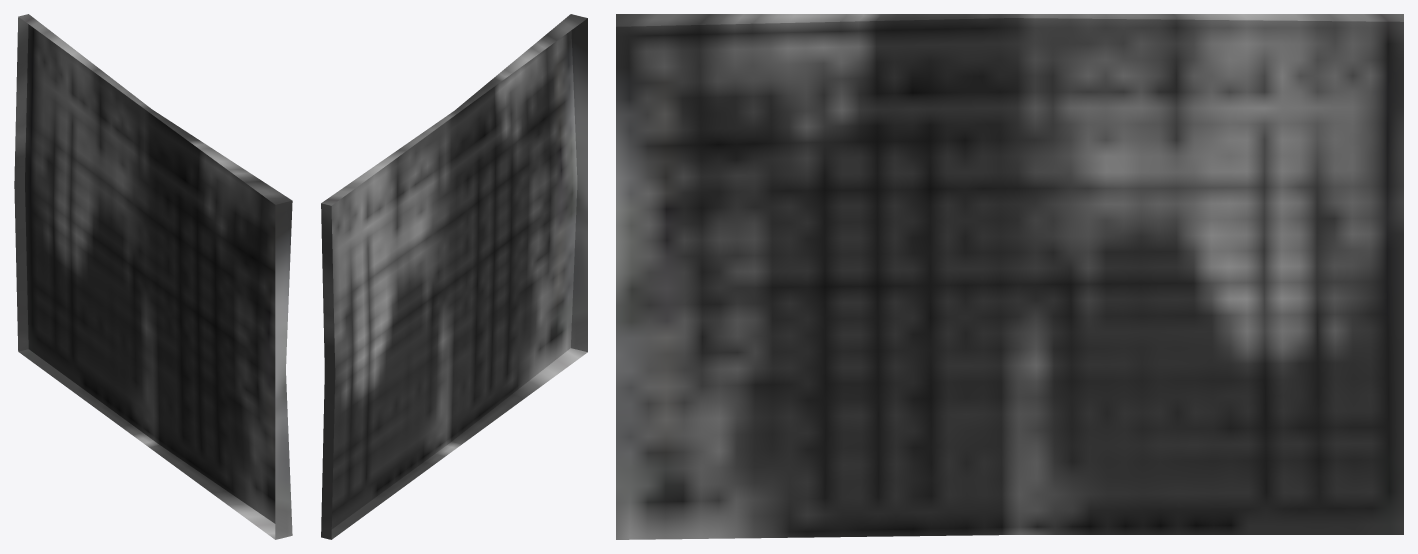
Rendered from Paper02.FBX.
3 renders of one model, left to right at view 1: azimuth 30°, elevation 25°; view 2: azimuth 150°, elevation 25°; view 3: azimuth 270°, elevation 25°, orthographic. The views are drawn at different scales.
Visible parts, largest first — view 1: Paper02; view 2: Paper02; view 3: Paper02.
Boxes of the visible parts, left/top/right/bottom form: Paper02: left=14, top=14, right=292, bottom=539; Paper02: left=321, top=14, right=587, bottom=539; Paper02: left=616, top=14, right=1403, bottom=539.
Bounding box in the file's own units: 1.47 × 22.45 × 31.23.
